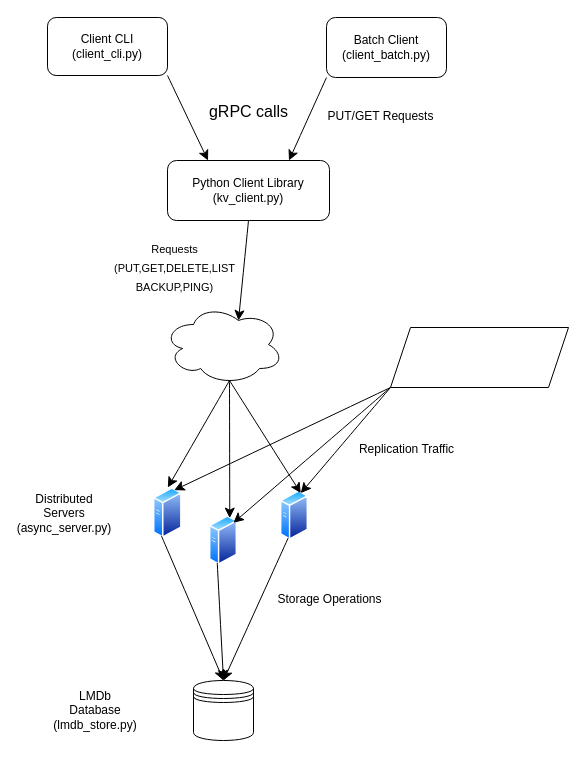
The diagram is 586 pixels wide and 758 high, and some of its shapes have lost their labels. Each missing label, with the centre of its shape:
"gRPC API" goes at (x=223, y=344).
"Replication Manager (replication.py)" goes at (x=479, y=357).
